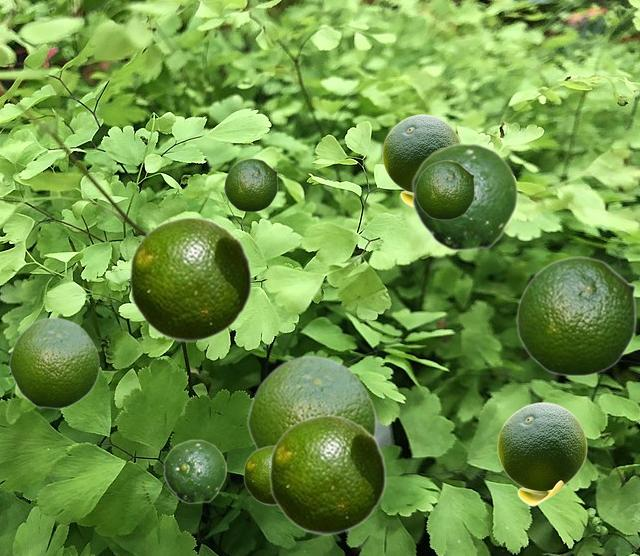calamansi: (128, 216, 252, 341), (516, 256, 636, 376), (268, 414, 386, 534), (246, 354, 376, 450), (411, 142, 518, 251), (497, 402, 586, 505), (8, 316, 99, 408), (382, 114, 460, 206), (163, 439, 226, 503), (415, 160, 474, 219), (224, 158, 277, 211), (243, 445, 275, 504)
